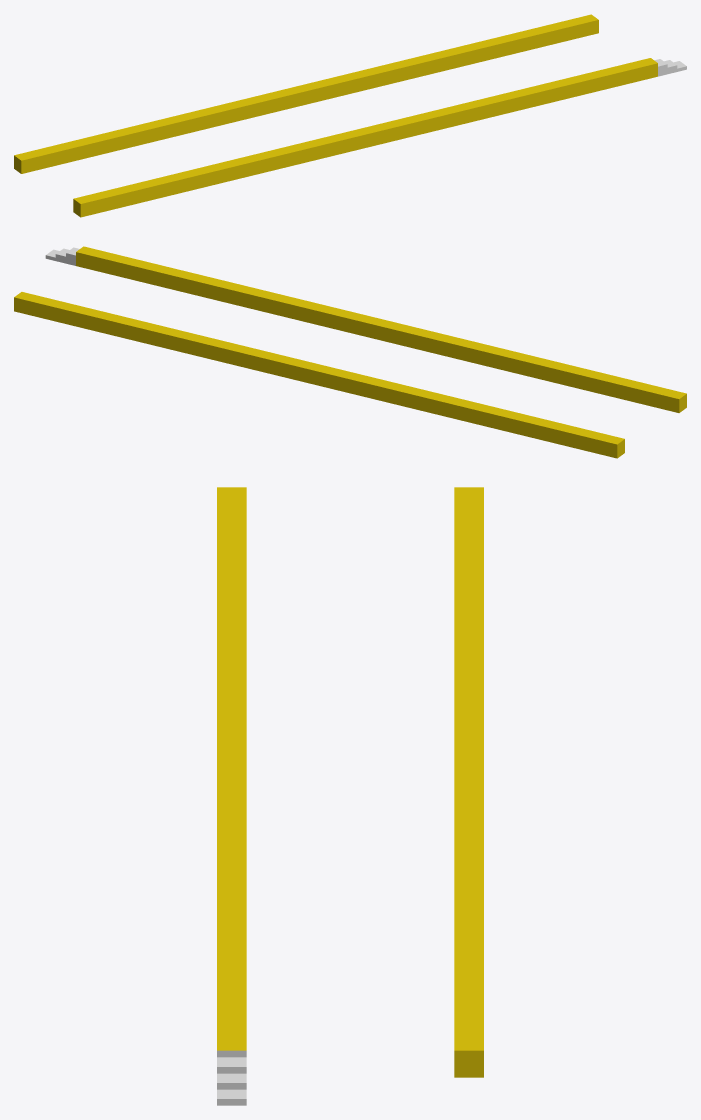
Rendered from FloorBuildRack.fbx.
The picture shows the model from 3 angles, top to bottom: view 1: azimuth 30°, elevation 25°; view 2: azimuth 150°, elevation 25°; view 3: azimuth 270°, elevation 25°; orthographic projection. The views are drawn at different scales.
Visible parts, largest first — view 1: FloorBuildRack; view 2: FloorBuildRack; view 3: FloorBuildRack.
Boxes of the visible parts, x1,y1,x2,y2 form: FloorBuildRack: (14, 14, 686, 217); FloorBuildRack: (14, 246, 686, 458); FloorBuildRack: (217, 487, 483, 1105).
Bounding box in the file's own units: 2880 × 60.96 × 549.
